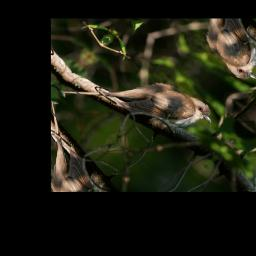Cuckoo: (59, 36, 222, 172)
